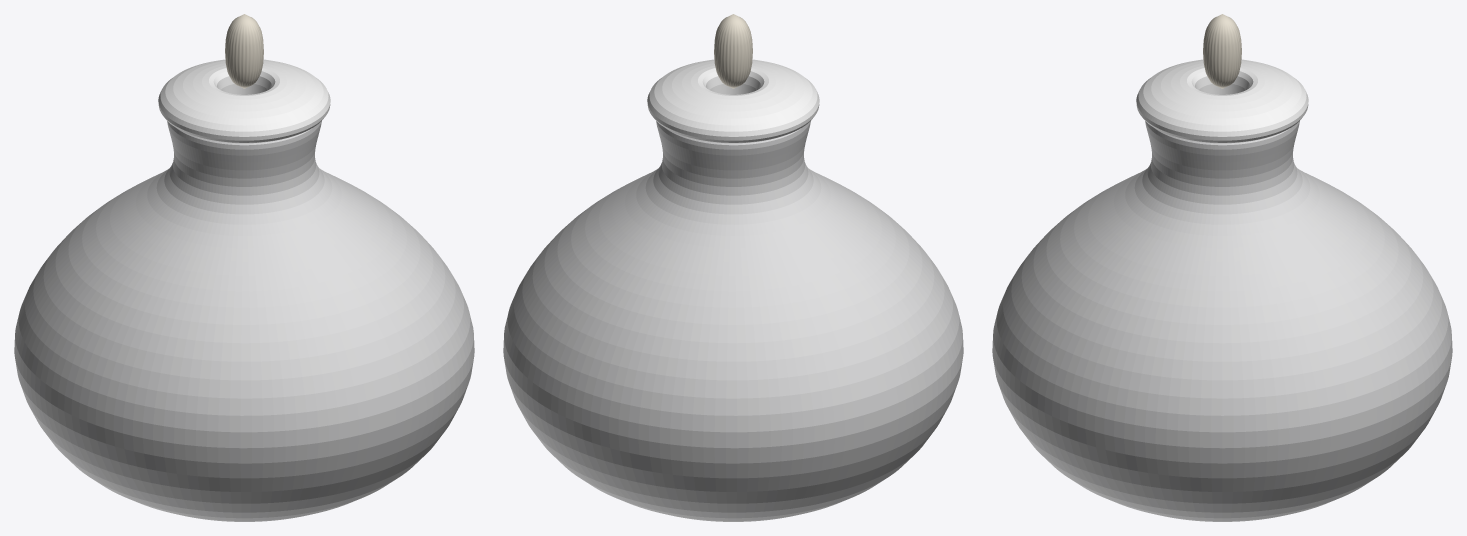
Rendered from den_con.glb.
The picture shows the model from 3 angles, left to right: view 1: azimuth 30°, elevation 25°; view 2: azimuth 150°, elevation 25°; view 3: azimuth 270°, elevation 25°; orthographic projection.
Visible parts, largest first — view 1: den_con; view 2: den_con; view 3: den_con.
Boxes of the visible parts, left/top/right/bottom form: den_con: left=14, top=14, right=474, bottom=521; den_con: left=503, top=14, right=963, bottom=521; den_con: left=992, top=14, right=1452, bottom=521.
Bounding box in the file's own units: 0.092 × 0.105 × 0.092.
